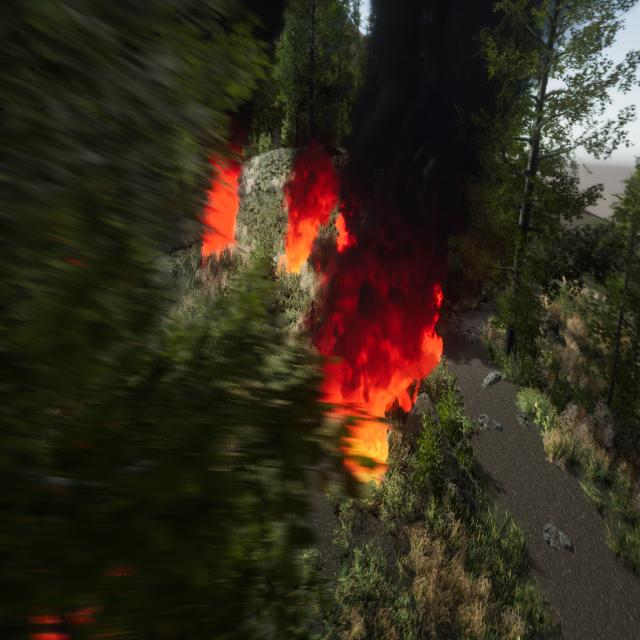Human: (304, 286, 321, 345)
